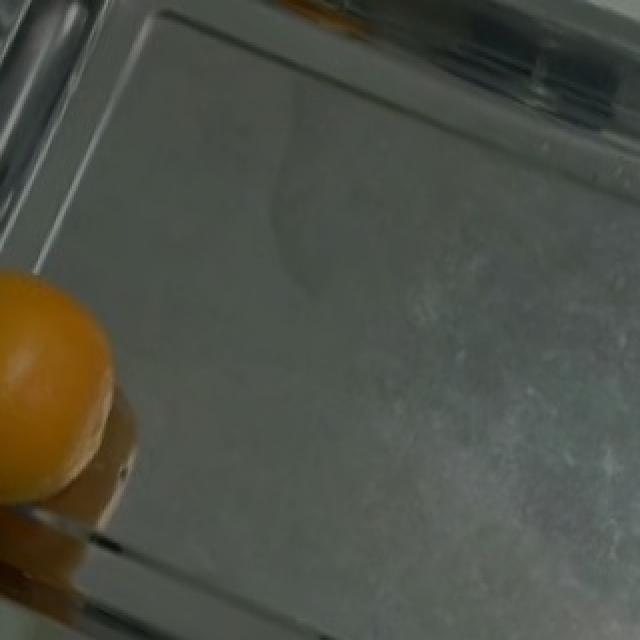Fruit: (0, 253, 140, 526)
